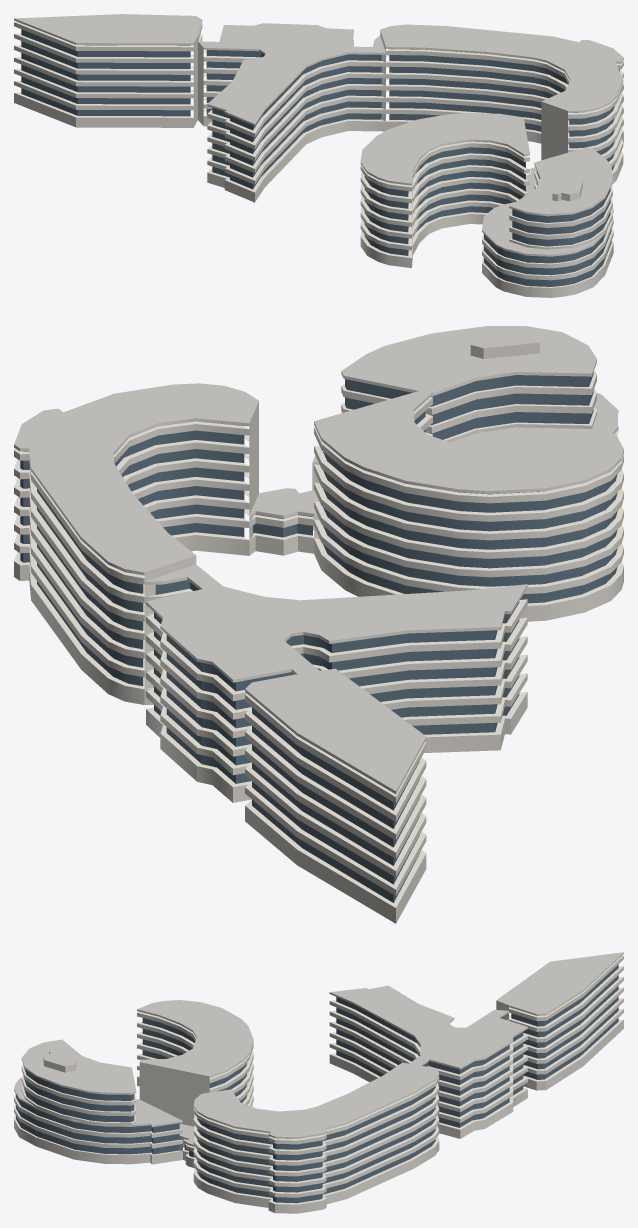
File: dc-watergate.glb
3 views of the same model, one above another, from view 1: azimuth 30°, elevation 25°; view 2: azimuth 150°, elevation 25°; view 3: azimuth 270°, elevation 25° (orthographic). The views are drawn at different scales.
Visible parts, largest first — view 1: Watergate complex; view 2: Watergate complex; view 3: Watergate complex.
Boxes of the visible parts, x1,y1,x2,y2 form: Watergate complex: [14, 14, 623, 297]; Watergate complex: [14, 326, 623, 923]; Watergate complex: [14, 952, 623, 1213].
Size of the model in its own units: 223 by 43.5 by 311.
